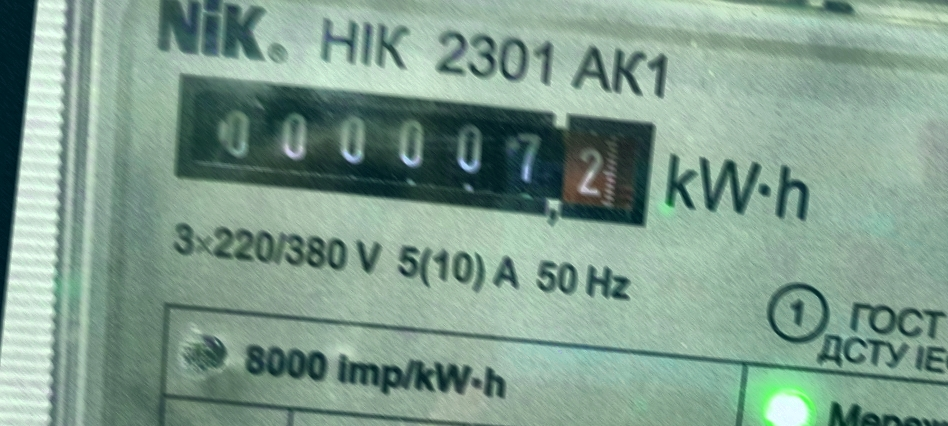0: (274, 108, 314, 163), (450, 122, 488, 178), (393, 115, 429, 171), (218, 107, 255, 161), (335, 112, 371, 167)
2: (572, 146, 608, 200)
7: (508, 129, 543, 187)
screen: (151, 54, 676, 249)
